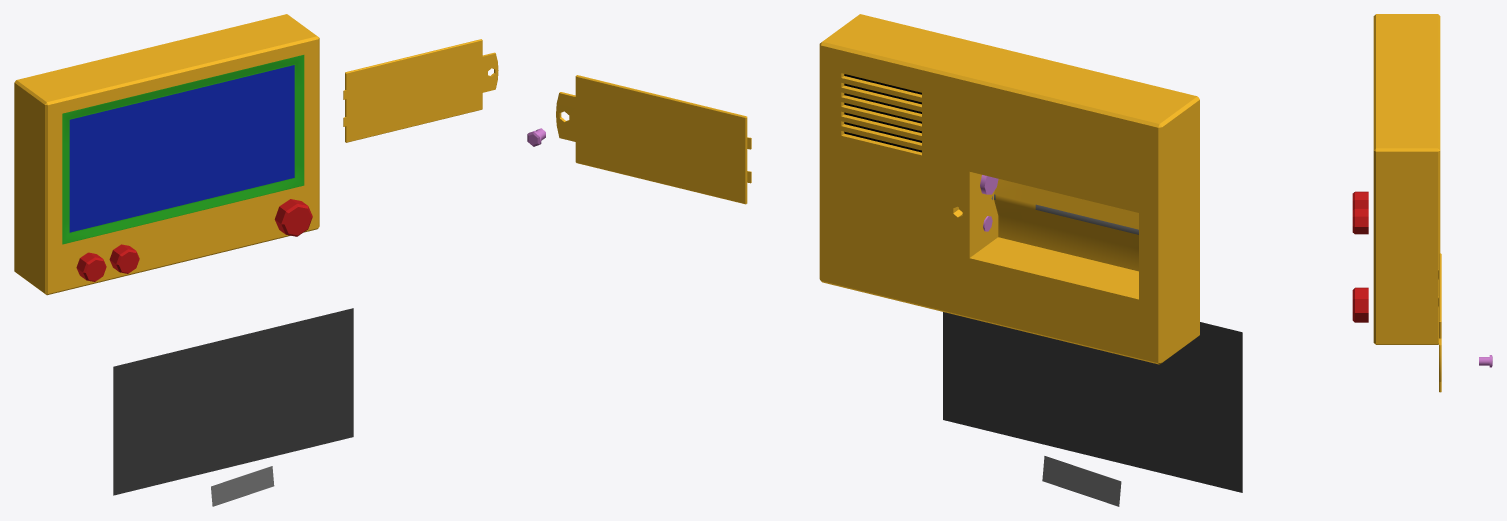
Rendered from [counter_final_withUV].fbx.
3 views of the same model, side by side, from view 1: azimuth 30°, elevation 25°; view 2: azimuth 150°, elevation 25°; view 3: azimuth 270°, elevation 25° (orthographic). The views are drawn at different scales.
Parts seen in each view (by area): view 1: Box005, Plane001, Box006, Plane002, Cylinder022, Cylinder024, Cylinder025; view 2: Box005, Plane001, Box006, Plane002; view 3: Box005, Cylinder022, Cylinder024, Box006, Cylinder025.
Part boxes in pixels (x1,y1,x2,y2): Box005: [14, 14, 319, 295]; Plane001: [113, 308, 353, 495]; Box006: [343, 39, 498, 142]; Plane002: [211, 466, 274, 506]; Cylinder022: [274, 199, 312, 236]; Cylinder024: [109, 244, 139, 273]; Cylinder025: [76, 252, 106, 281]; Box005: [819, 14, 1199, 364]; Plane001: [943, 312, 1242, 492]; Box006: [556, 75, 751, 204]; Plane002: [1042, 456, 1121, 506]; Box005: [1373, 14, 1440, 344]; Cylinder022: [1352, 287, 1368, 322]; Cylinder024: [1352, 208, 1368, 234]; Box006: [1438, 253, 1441, 392]; Cylinder025: [1352, 191, 1368, 209].
Bounding box in the file's own units: 278 × 108 × 216.
